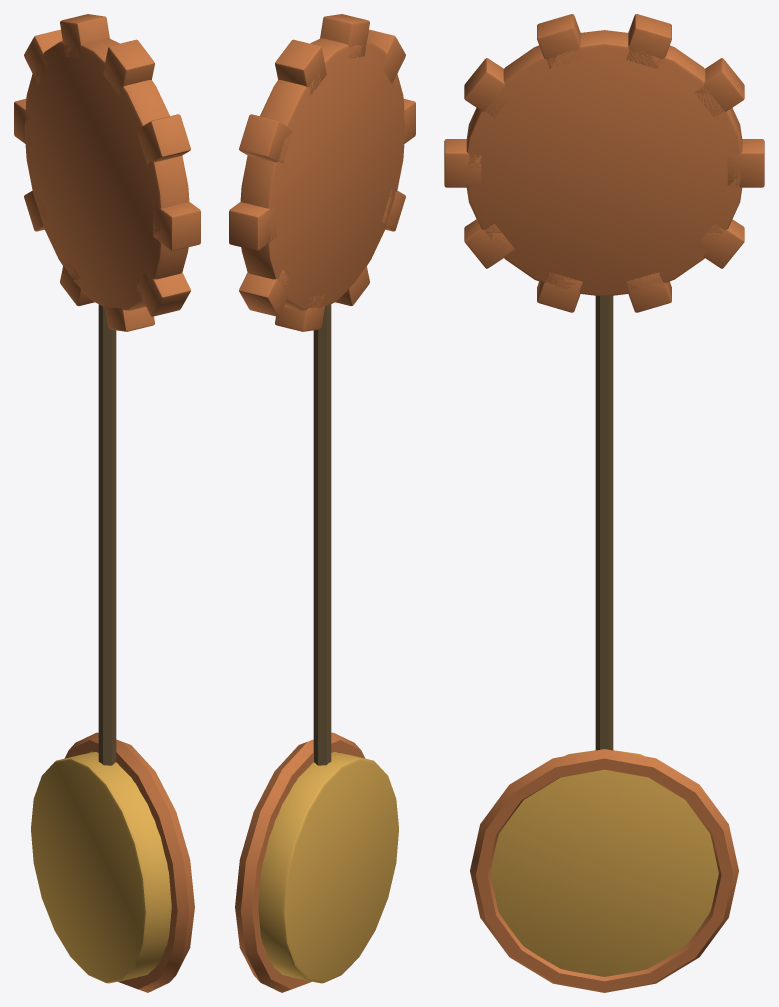
File: HangClock.fbx
3 renders of one model, left to right at view 1: azimuth 30°, elevation 25°; view 2: azimuth 150°, elevation 25°; view 3: azimuth 270°, elevation 25°, orthographic.
Visible parts, largest first — view 1: HangClock; view 2: HangClock; view 3: HangClock.
Boxes of the visible parts, x1,y1,x2,y2 form: HangClock: (14, 14, 200, 992); HangClock: (229, 14, 415, 992); HangClock: (444, 14, 764, 992).
Size of the model in its own units: 43.66 by 910 by 274.
